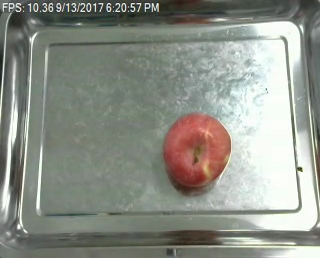Apple: (159, 112, 234, 191)
